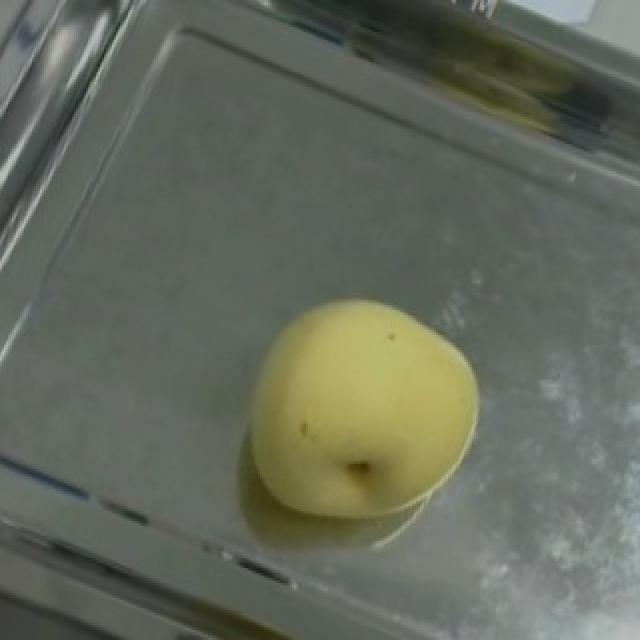Fruit: (198, 253, 520, 566)
